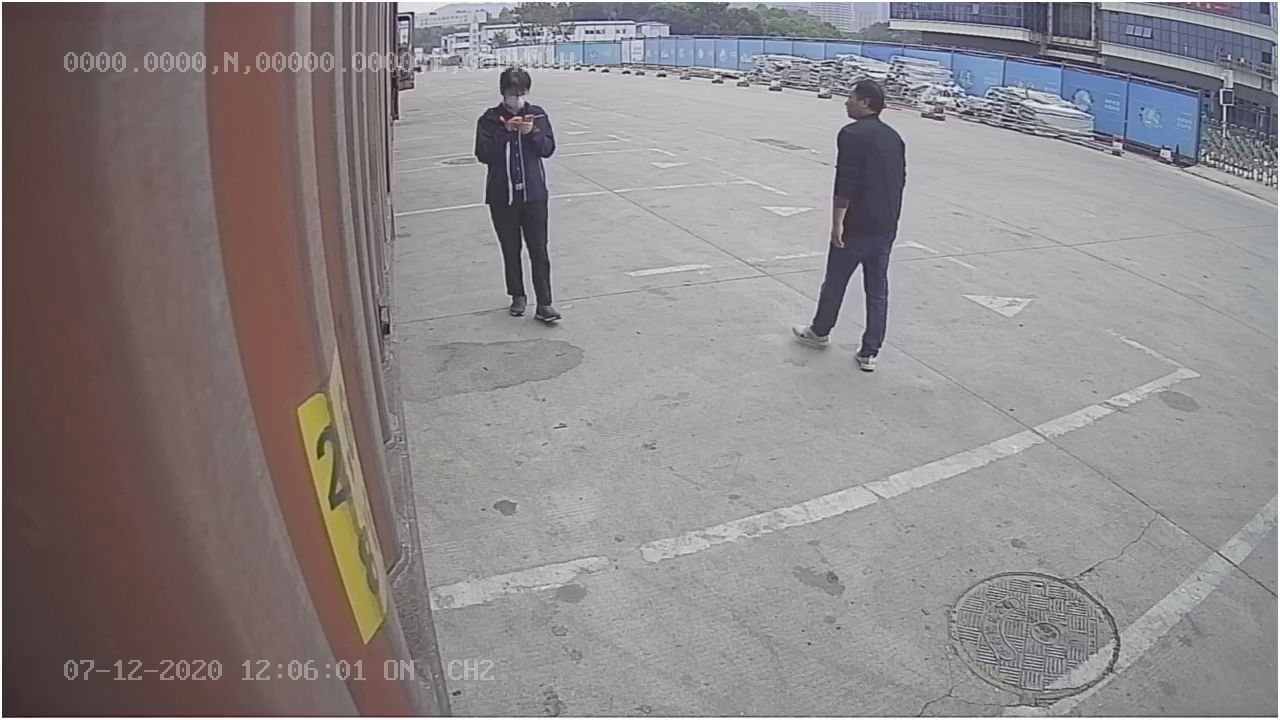person: (785, 79, 906, 370), (471, 67, 568, 328)
